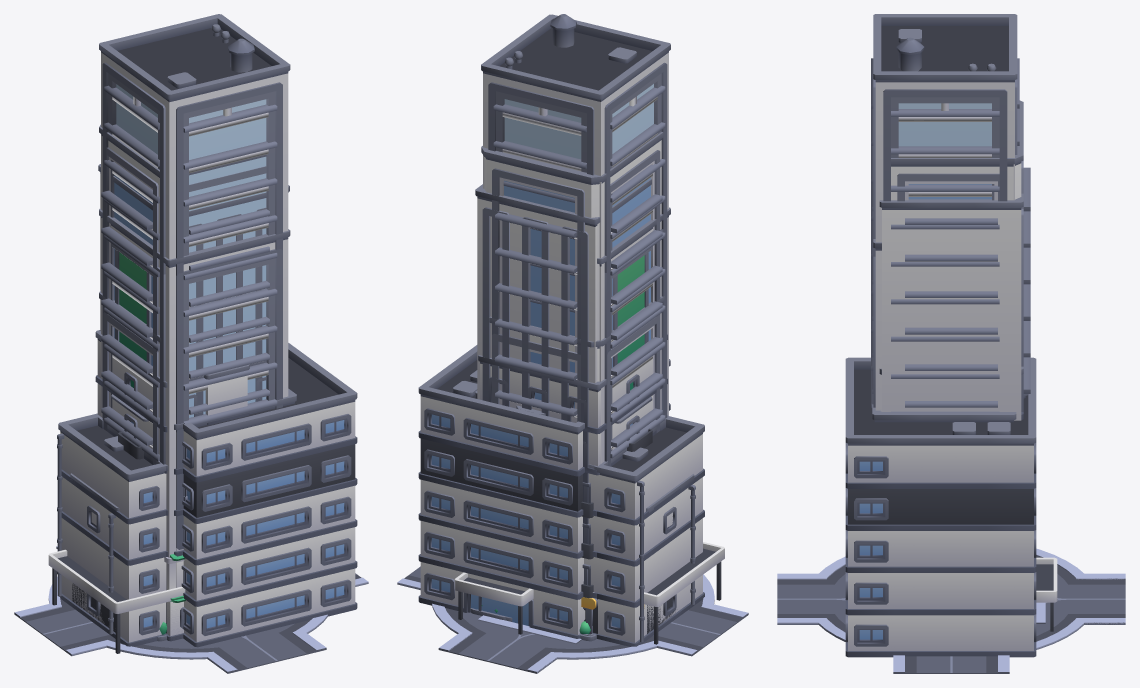
The model's file is kit.glb.
3 renders of one model, left to right at view 1: azimuth 30°, elevation 25°; view 2: azimuth 150°, elevation 25°; view 3: azimuth 270°, elevation 25°, orthographic. The views are drawn at different scales.
Parts seen in each view (by area): view 1: building-n, building-skyscraper-d, building-skyscraper-c, building-j, building-skyscraper-b, road-roundabout, building-skyscraper-e, building-k, building-skyscraper-a, building-m, building-l, building-type-t; view 2: building-n, building-skyscraper-d, building-skyscraper-b, building-j, building-skyscraper-e, road-roundabout, building-m, building-skyscraper-a, building-skyscraper-c, building-k, building-i, road-side; view 3: building-n, building-skyscraper-d, building-skyscraper-e, road-roundabout, building-skyscraper-b, building-skyscraper-c, building-l, building-skyscraper-a.
Part boxes in pixels (x1,y1,x2,y2): building-n: (48, 343, 357, 653); building-skyscraper-d: (99, 14, 290, 636); building-skyscraper-c: (99, 208, 290, 589); building-j: (57, 413, 167, 646); building-skyscraper-b: (99, 124, 269, 454); road-roundabout: (14, 546, 368, 673); building-skyscraper-e: (98, 164, 289, 421); building-k: (70, 473, 119, 634); building-skyscraper-a: (99, 290, 269, 464); building-m: (95, 330, 266, 551); building-l: (118, 388, 296, 635); building-type-t: (167, 595, 184, 641); building-n: (418, 345, 724, 644); building-skyscraper-d: (481, 14, 670, 461); building-skyscraper-b: (481, 132, 663, 634); building-j: (581, 416, 704, 646); building-skyscraper-e: (475, 179, 652, 633); road-roundabout: (397, 566, 748, 673); building-m: (478, 334, 667, 638); building-skyscraper-a: (489, 296, 664, 625); building-skyscraper-c: (530, 207, 670, 463); building-k: (644, 474, 695, 633); building-i: (581, 415, 668, 634); road-side: (478, 615, 581, 643); building-n: (845, 357, 1057, 657); building-skyscraper-d: (871, 14, 1019, 412); building-skyscraper-e: (879, 193, 1023, 420); road-roundabout: (777, 548, 1125, 673); building-skyscraper-b: (872, 100, 1030, 407); building-skyscraper-c: (871, 239, 999, 412); building-l: (872, 394, 1027, 422); building-skyscraper-a: (872, 325, 1030, 403).
Size of the model in its own units: 33 by 60.17 by 33.
Materials: 4 (4 with a texture image).
